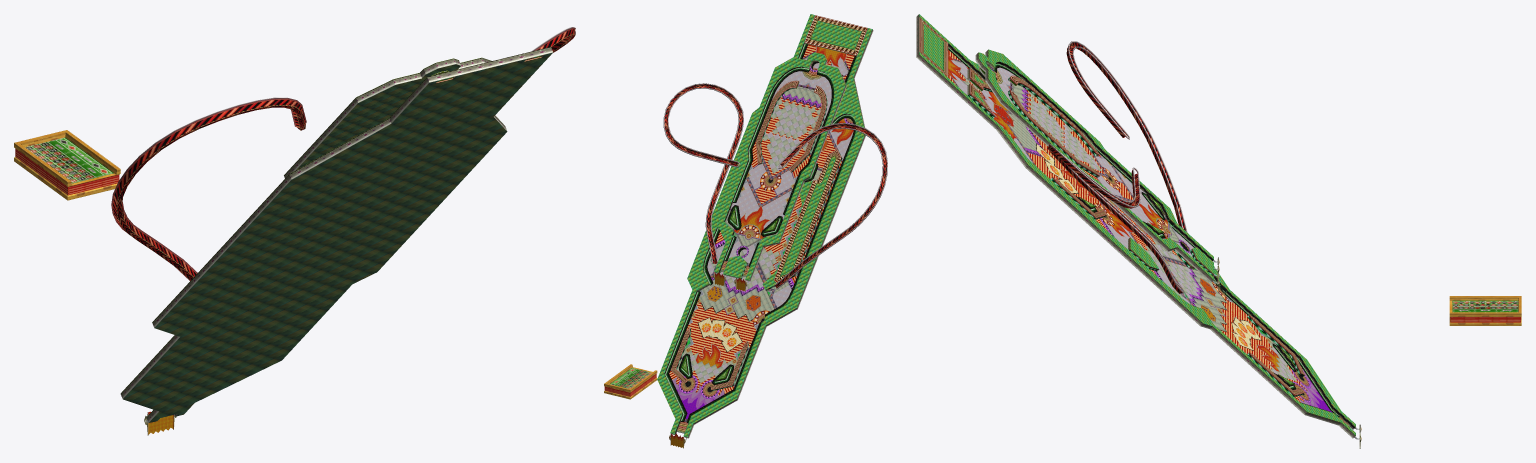
The model's file is Pinball_match_player2.obj.
3 views of the same model, side by side, from view 1: azimuth 30°, elevation 25°; view 2: azimuth 150°, elevation 25°; view 3: azimuth 270°, elevation 25° (orthographic). The views are drawn at different scales.
Visible parts, largest first — view 1: obj2, obj1, obj3; view 2: obj2, Object_2, obj1, obj3, obj4; view 3: obj2, Object_2, obj1, obj3.
Part boxes in pixels (x1,y1,x2,y2): obj2: (14,27,575,435); obj1: (113,29,575,434); obj3: (25,137,115,185); obj2: (604,14,887,448); Object_2: (665,43,856,423); obj1: (664,84,886,447); obj3: (610,367,652,388); obj4: (701,146,823,346); obj2: (916,14,1521,448); Object_2: (948,48,1339,417); obj1: (1047,42,1185,293); obj3: (1449,300,1518,312).
Size of the model in its own units: 1004 by 1320 by 1765.
